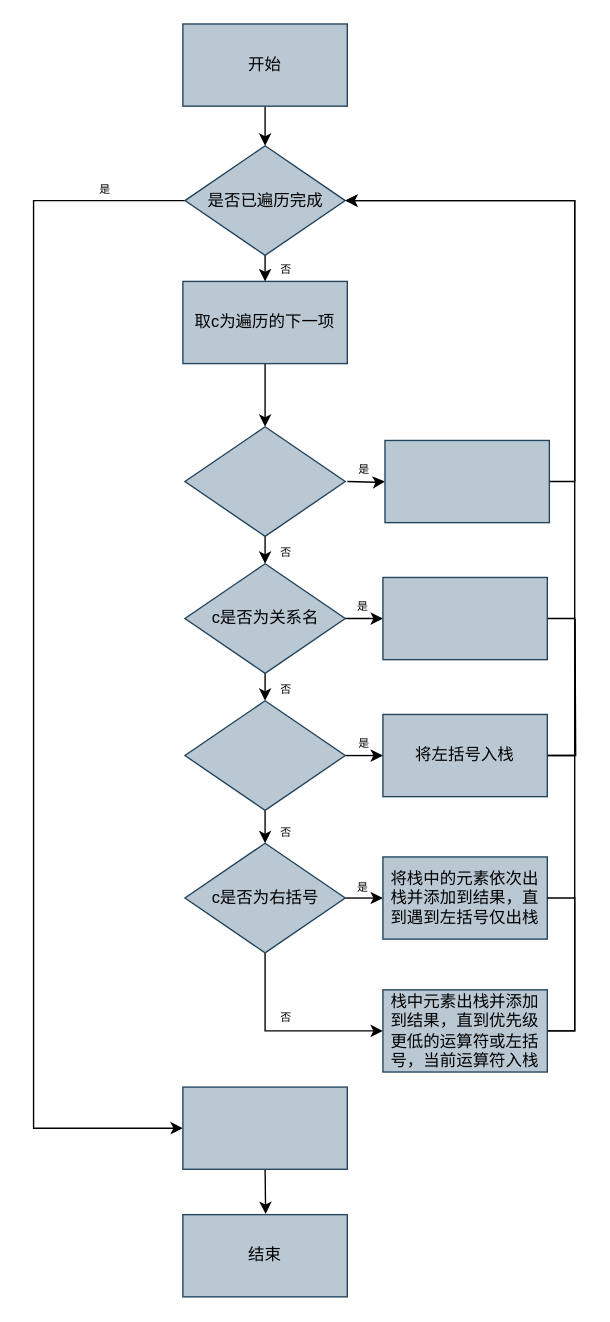
Image size: 610x1322. Some labels were removed from this diagram. The shapes that lost their labels are listed below. From the top down, each one's centre as x and y in pixels, then its label:
(264,480): c是否为单目运算符
(466,481): 递归计算运算符内的嵌套表达式，然后计算弹幕表达式，得到最后结果加入结果中
(464,618): 将c直接加入结果
(264,754): c是否为左括号
(264,1127): 栈中剩余的运算符依次弹出添加至结果
